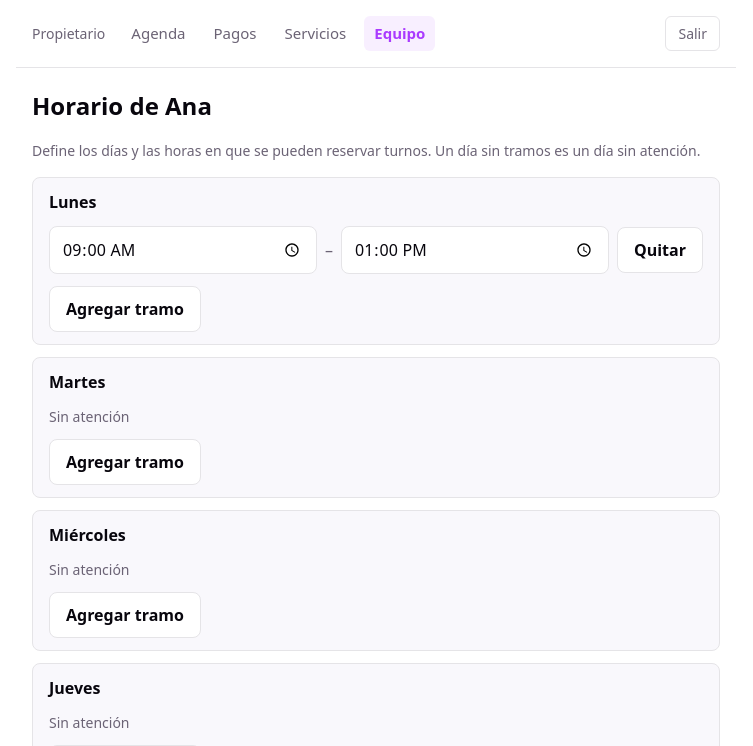
Test case: RF-8: un error de la API se muestra en español y los cambios se conservan
The image size is (753, 746).
Expected: the time field named "Lunes · desde" is shown, 49,226 -> 317,274
Step 1. Click the button with aria-label "Agregar tramo el lunes" → coordinates (125, 309), box 49,286 -> 201,332
(page scrolled)
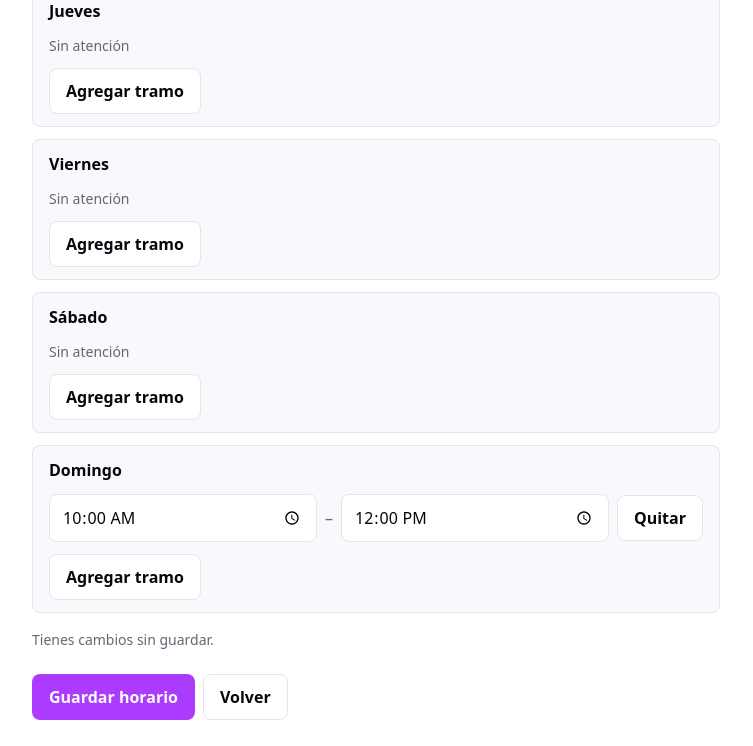
Step 2. Click the button "Guardar horario" → coordinates (114, 697), box 32,674 -> 195,720
(page scrolled)
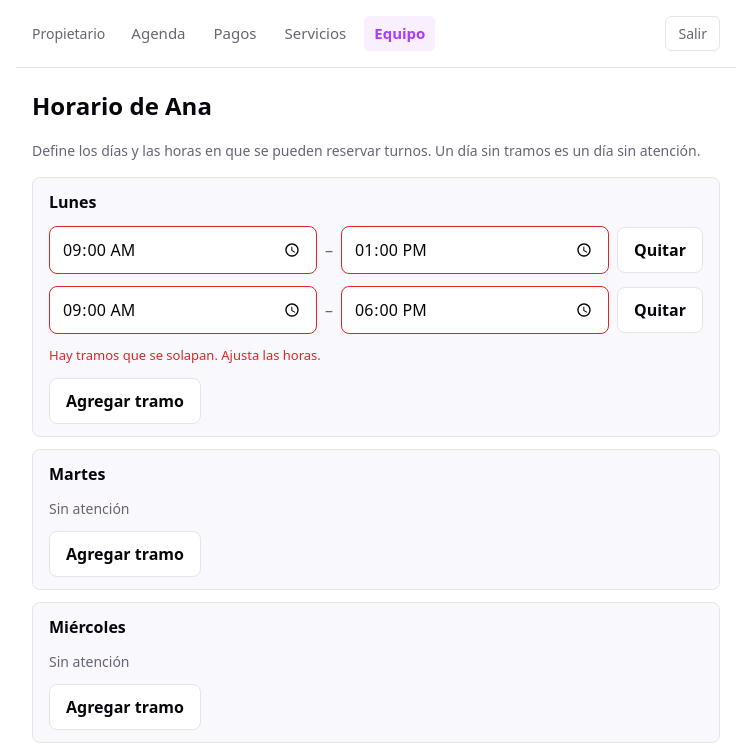
Expected: the time field named "Lunes · tramo 2 · desde" is shown, 49,286 -> 317,334
Expected: the message shows "se solapan", 49,346 -> 321,364
